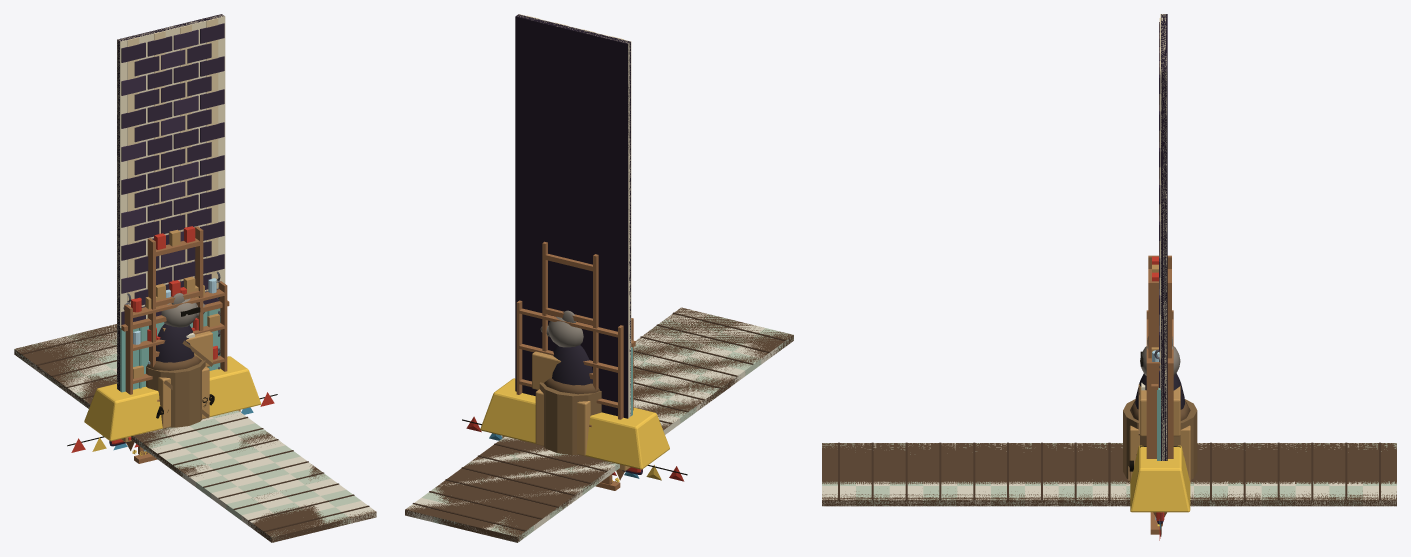
Rendered from kit.glb.
3 renders of one model, left to right at view 1: azimuth 30°, elevation 25°; view 2: azimuth 150°, elevation 25°; view 3: azimuth 270°, elevation 25°, orthographic. The views are drawn at different scales.
Visible parts, largest first — view 1: wall_den, floor_store, wall_store, floor_den, goldbar, shelf_bg, shelf, column, bouncer, crates_bg, bunting; view 2: wall_den, floor_den, floor_store, goldbar, column, shelf_bg, bouncer, shelf, crates_bg, wall_store, bunting; view 3: floor_den, floor_store, wall_den, goldbar, wall_store, shelf_bg, column, crates_bg, shelf, bouncer.
Boxes of the visible parts, box(x1,y1,x2,y2) form: wall_den: box(117, 14, 224, 390); floor_store: box(14, 324, 376, 542); wall_store: box(117, 15, 229, 392); floor_den: box(14, 324, 376, 542); goldbar: box(84, 356, 260, 441); shelf_bg: box(124, 278, 227, 394); shelf: box(147, 226, 203, 367); column: box(146, 356, 205, 427); bouncer: box(156, 293, 204, 362); crates_bg: box(158, 331, 213, 428); bunting: box(67, 392, 277, 452); wall_den: box(515, 14, 630, 418); floor_den: box(405, 307, 793, 542); floor_store: box(405, 307, 793, 542); goldbar: box(480, 378, 669, 469); column: box(539, 378, 601, 454); shelf_bg: box(516, 300, 633, 419); bouncer: box(540, 310, 592, 385); shelf: box(542, 241, 598, 390); crates_bg: box(532, 351, 590, 456); wall_store: box(518, 14, 635, 417); bunting: box(462, 416, 687, 481); floor_den: box(822, 442, 1396, 506); floor_store: box(822, 443, 1396, 506); wall_den: box(1159, 14, 1167, 460); goldbar: box(1129, 445, 1190, 512); wall_store: box(1151, 14, 1166, 460); shelf_bg: box(1146, 310, 1173, 458); column: box(1123, 399, 1197, 479); crates_bg: box(1128, 384, 1190, 483); shelf: box(1148, 255, 1171, 358); bouncer: box(1135, 336, 1184, 409).
Bounding box in the file's own units: 4 × 7.69 × 8.5.
